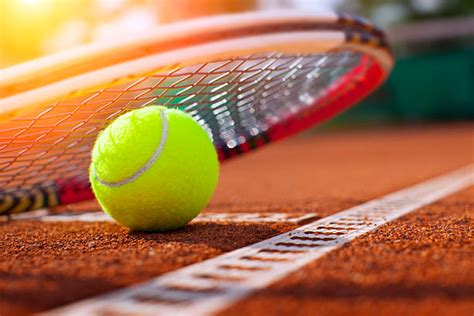tennis_ball: (88, 105, 219, 231)
